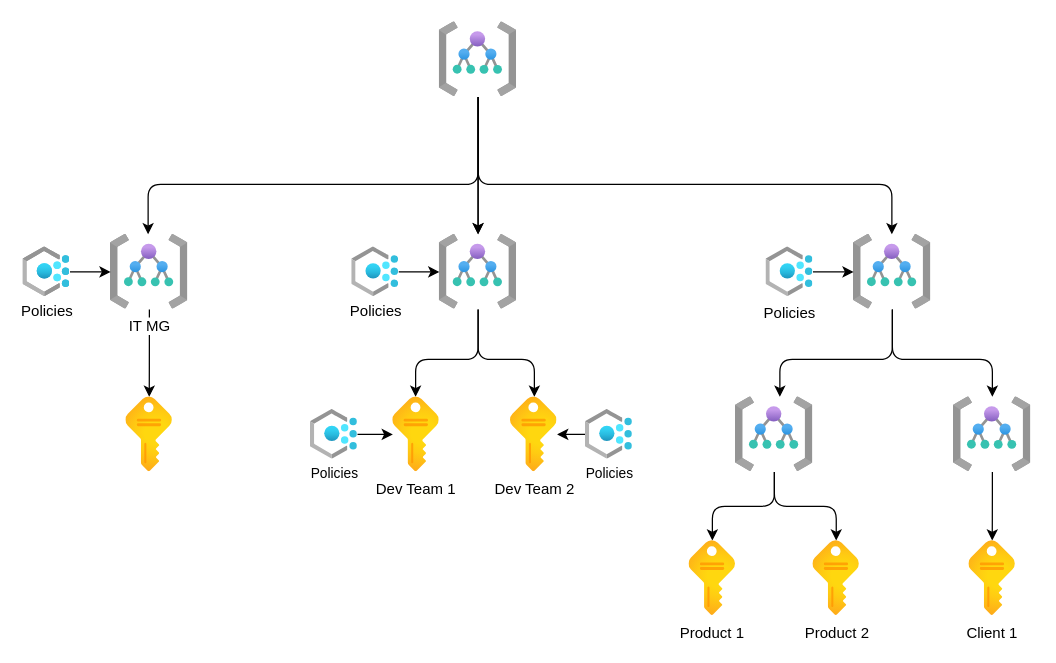
Some shapes in this 1056 by 663 pixel diagram are drawn without their labels. The shapes that lost their labels are listed below. From the top down, each one's box as (x1, y1, x2, y2) in pixels, then its label:
(439, 21, 516, 96): Root MG
(439, 234, 516, 309): Development MG
(853, 234, 930, 309): Production MG
(125, 396, 172, 471): Networking
(735, 396, 812, 471): Internal MG
(953, 396, 1030, 471): External MG
